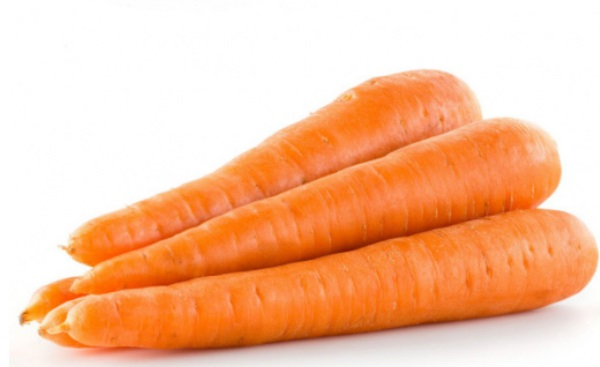Orange: (19, 77, 592, 361)
